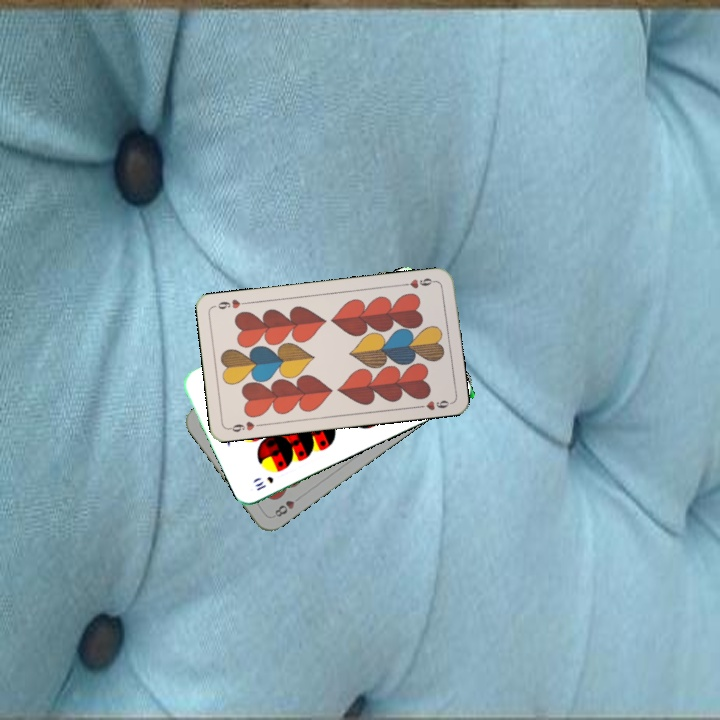H8: (270, 496, 297, 520)
H9: (225, 417, 265, 435), (398, 274, 439, 291)
S10: (251, 472, 276, 493)
